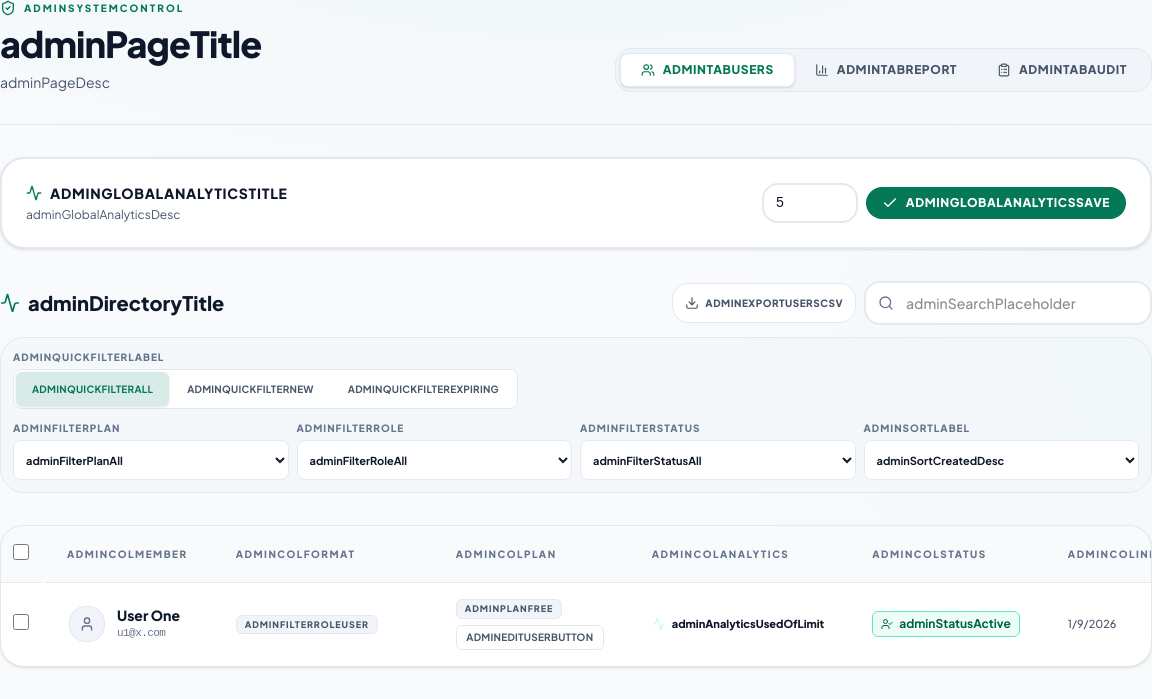
AdminView › keeps the modal open and shows the error when saving the plan fails
Click the button "adminEditUserButton".
click(530, 637)  # box x1=456 y1=624 x2=604 y2=650
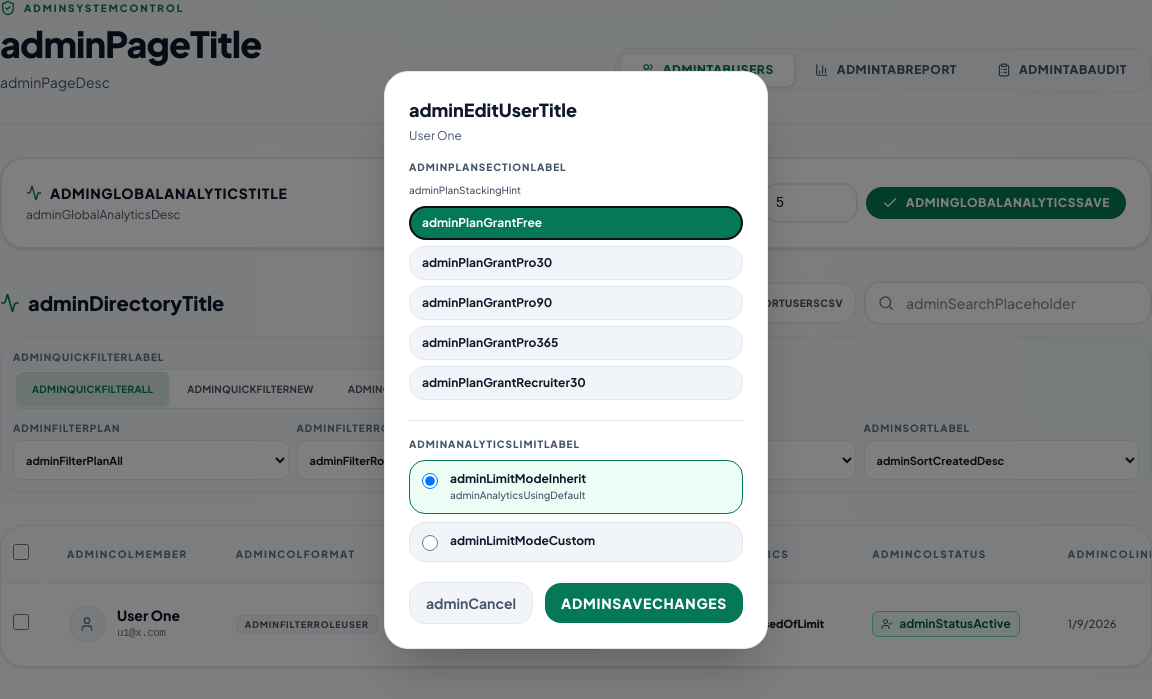
Click the button "adminPlanGrantPro30".
click(487, 263)  # box x1=409 y1=246 x2=743 y2=280
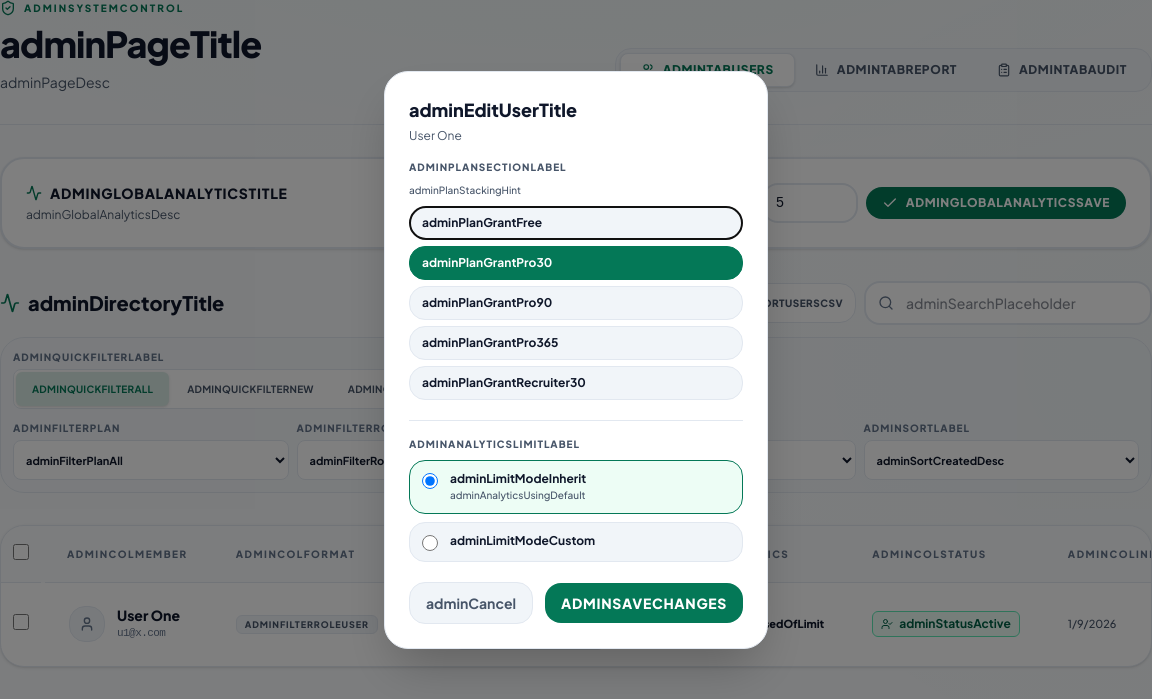
Click the button "adminSaveChanges".
click(644, 603)  # box x1=545 y1=583 x2=743 y2=623
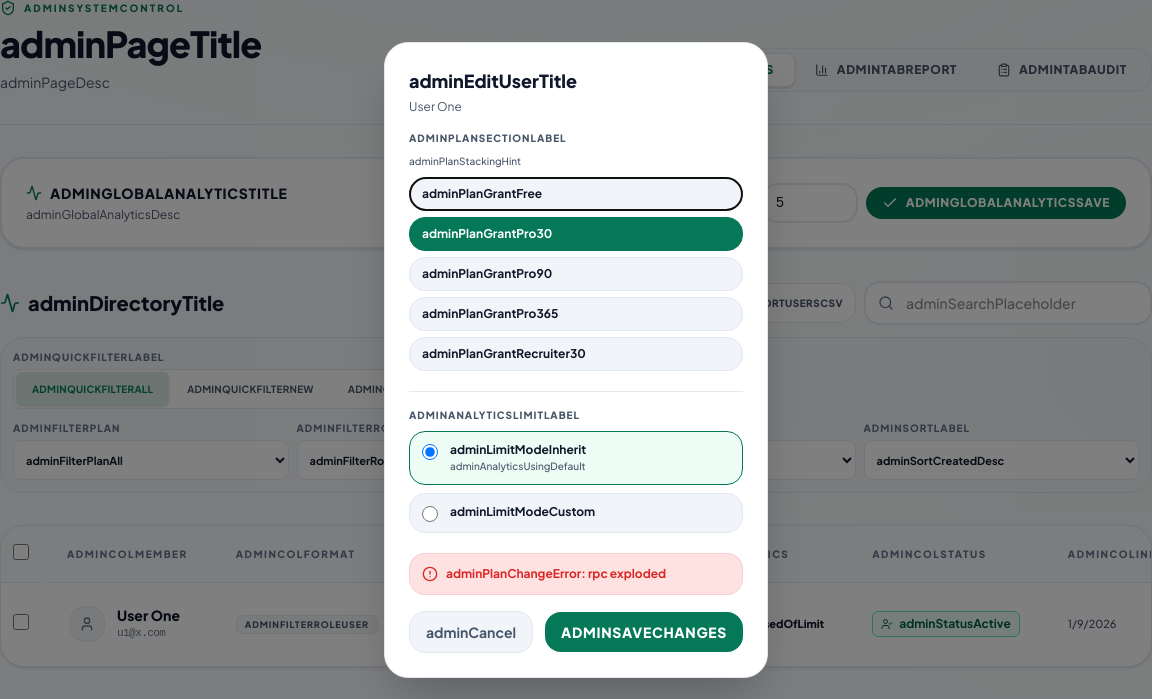
Expected: the heading "adminEditUserTitle" is shown, x1=409 y1=69 x2=577 y2=92
Expected: the text "adminPlanChangeError: rpc exploded" is shown, x1=446 y1=566 x2=666 y2=582
